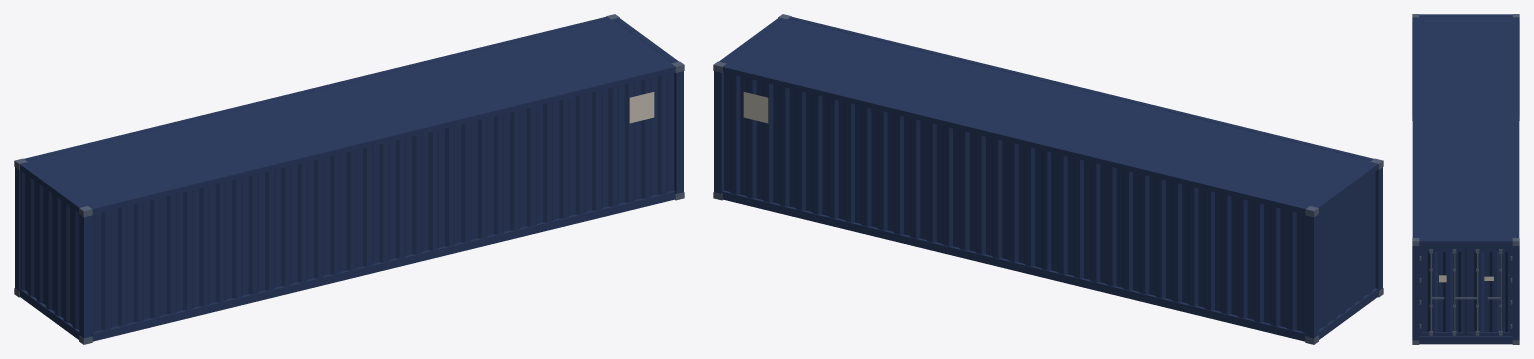
The model's file is port_container_40_navy.glb.
The picture shows the model from 3 angles, left to right: view 1: azimuth 30°, elevation 25°; view 2: azimuth 150°, elevation 25°; view 3: azimuth 270°, elevation 25°; orthographic projection. The views are drawn at different scales.
Visible parts, largest first — view 1: shell, stencil, hardware; view 2: shell, stencil, hardware; view 3: shell, hardware, interior.
Part boxes in pixels (bbox=[...]): shell: bbox=[15, 16, 683, 341]; stencil: bbox=[629, 92, 654, 123]; hardware: bbox=[14, 14, 684, 344]; shell: bbox=[714, 16, 1382, 341]; stencil: bbox=[743, 92, 768, 123]; hardware: bbox=[713, 14, 1383, 344]; shell: bbox=[1412, 14, 1519, 344]; hardware: bbox=[1412, 14, 1519, 344]; interior: bbox=[1465, 249, 1466, 334].
Bounding box in the file's own units: 12.19 × 2.59 × 2.44.
